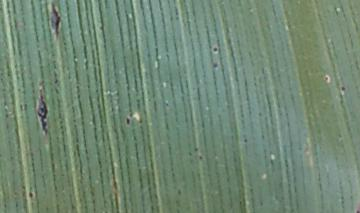tarspot: (34, 90, 50, 136), (48, 2, 62, 40), (137, 113, 144, 126), (211, 61, 220, 69), (124, 116, 131, 126), (211, 45, 219, 53), (339, 85, 348, 92), (27, 191, 34, 199), (323, 75, 330, 82), (198, 154, 205, 161), (242, 137, 248, 144), (193, 146, 200, 152), (176, 188, 182, 195), (98, 25, 104, 32), (163, 101, 170, 107), (283, 158, 289, 163), (283, 162, 289, 167), (355, 208, 360, 213)
